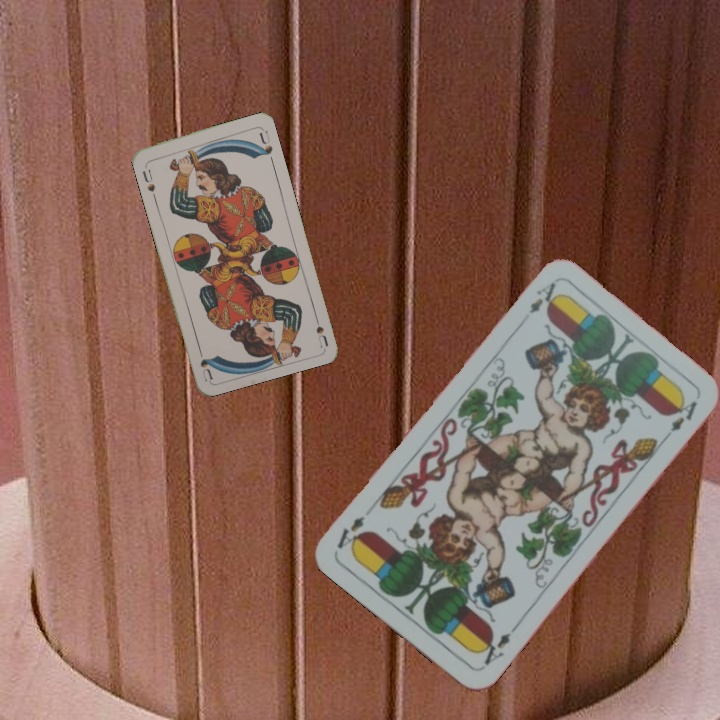EA: (474, 621, 520, 668), (525, 278, 563, 317)
SU: (310, 308, 330, 349), (138, 159, 158, 195)
